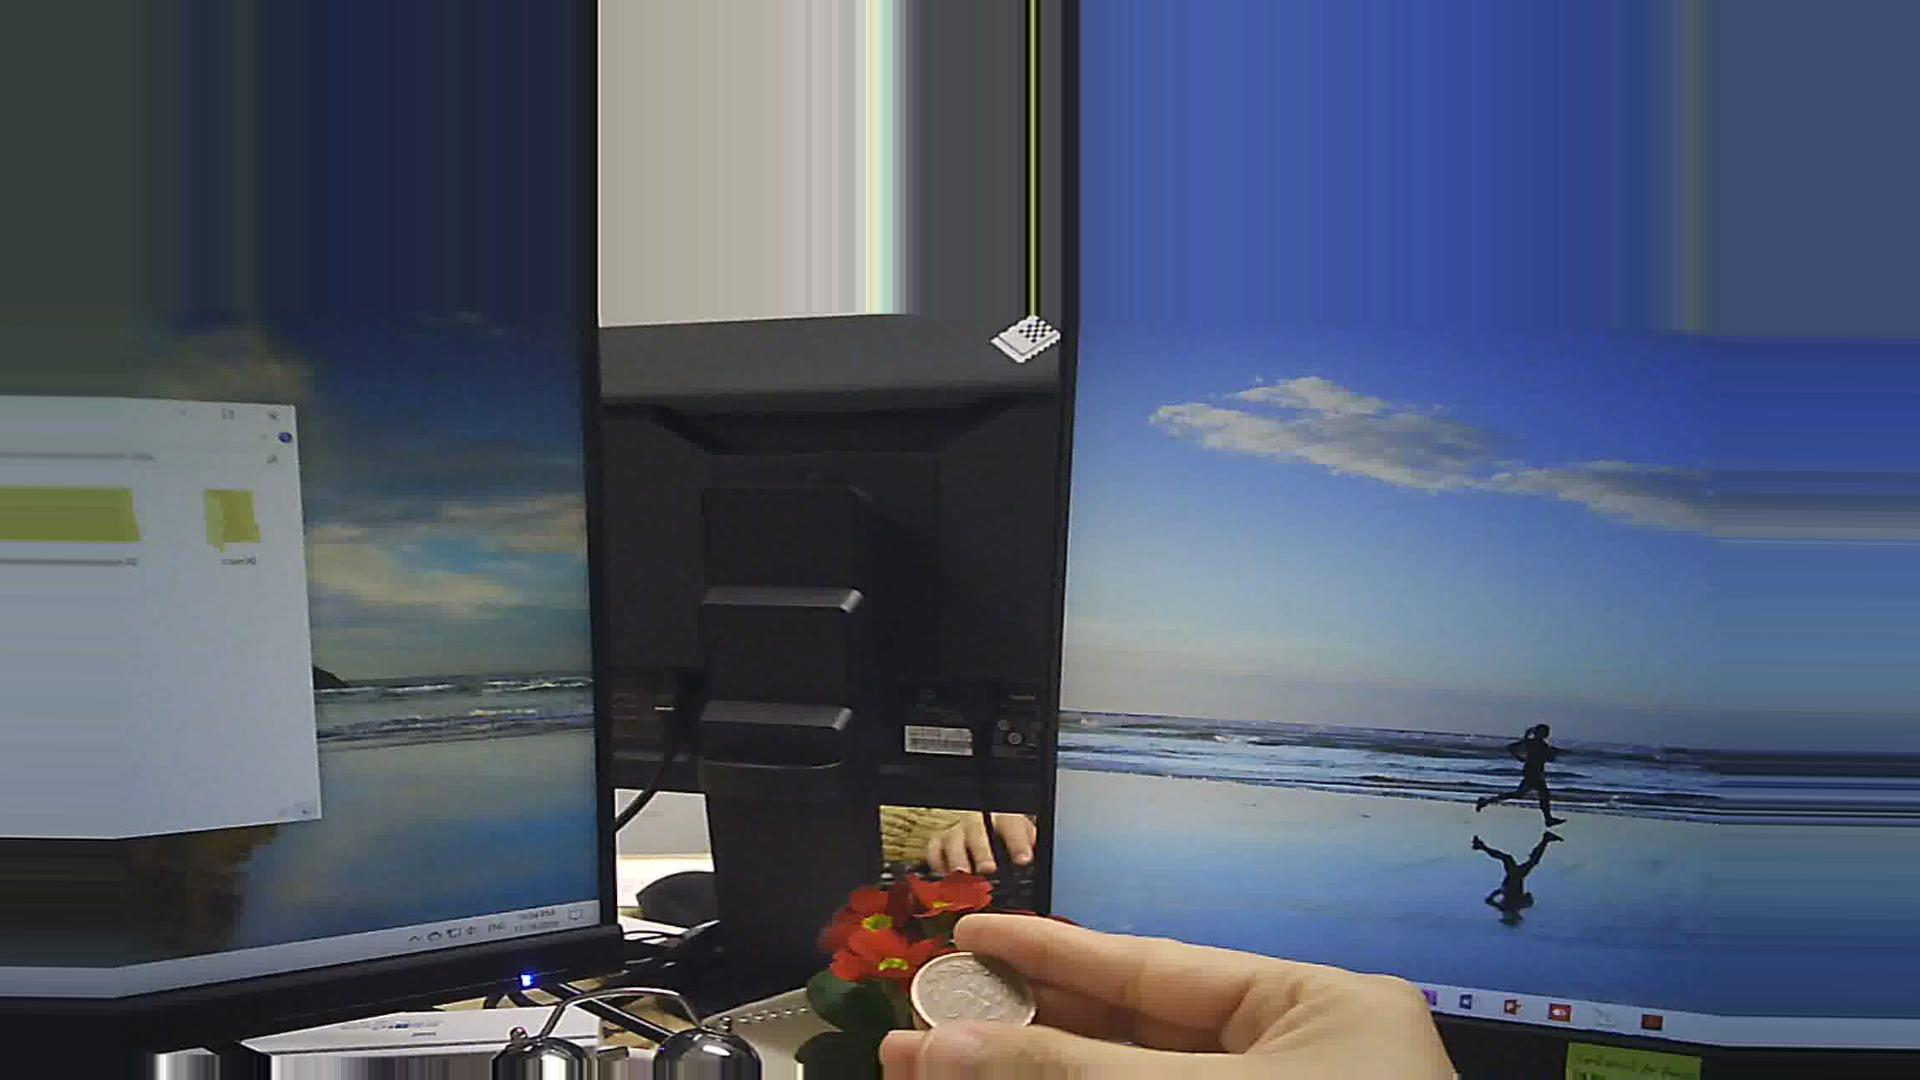10 Yen: (897, 934, 1039, 1033)
